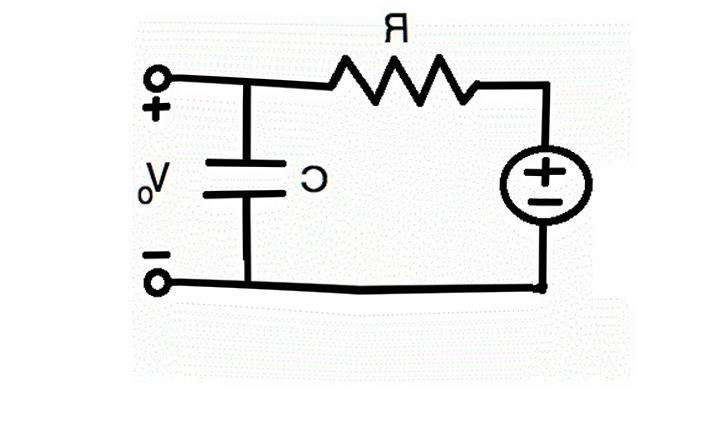Battery: (478, 138, 605, 235)
